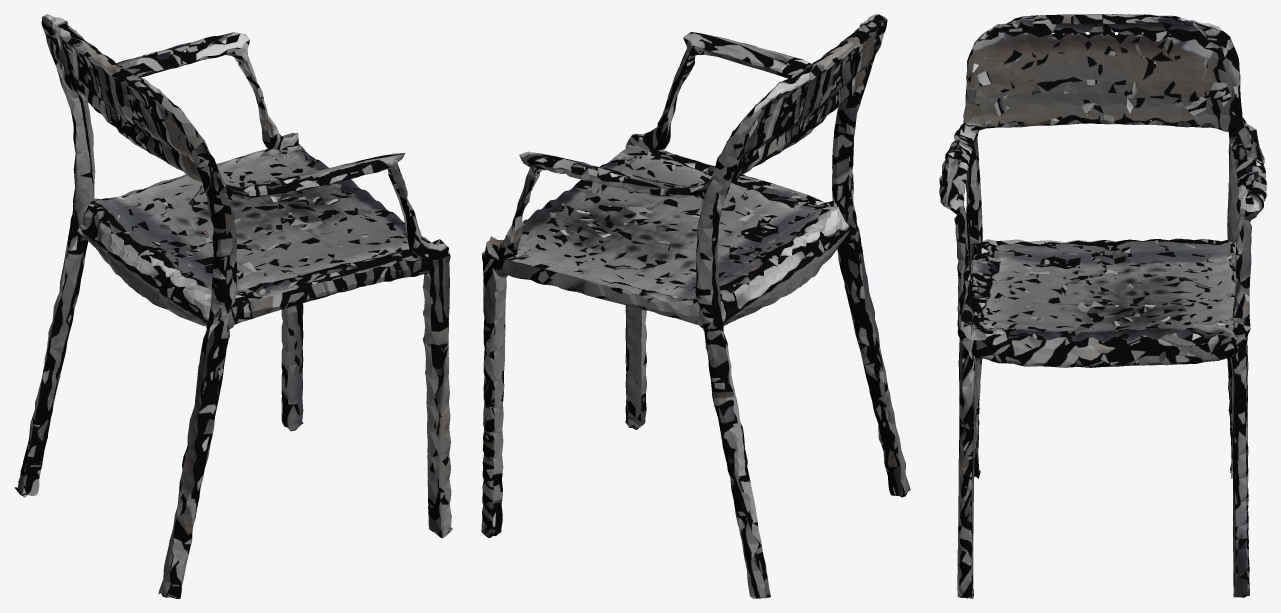
The model's file is elem_94_115_131_213_7_7.obj.
The picture shows the model from 3 angles, left to right: view 1: azimuth 30°, elevation 25°; view 2: azimuth 150°, elevation 25°; view 3: azimuth 270°, elevation 25°; orthographic projection. The views are drawn at different scales.
Bounding box in the file's own units: 0.4304 × 0.6982 × 0.4496.
Materials: 1 (1 with a texture image).
